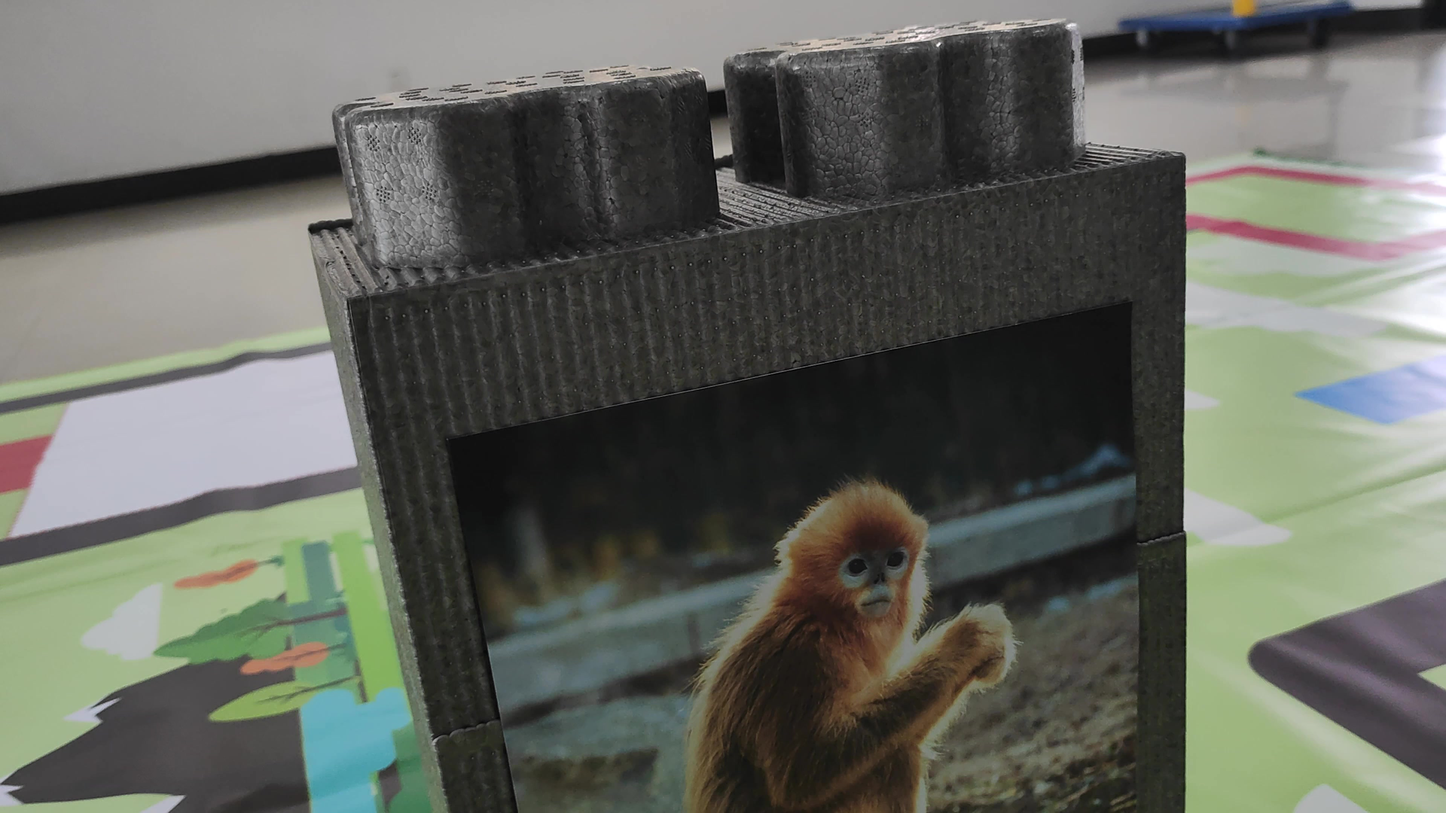monkey: (631, 470, 1043, 803)
